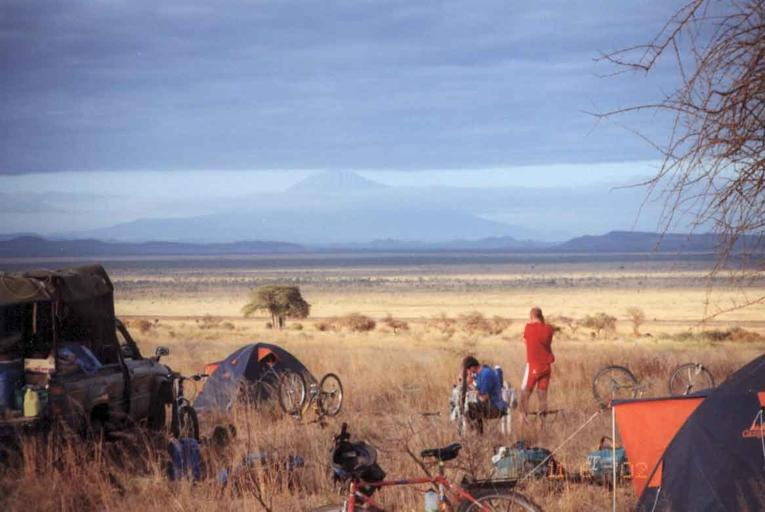non-vehicle: (313, 424, 542, 512), (594, 364, 716, 408), (279, 369, 345, 429), (164, 370, 211, 444)
